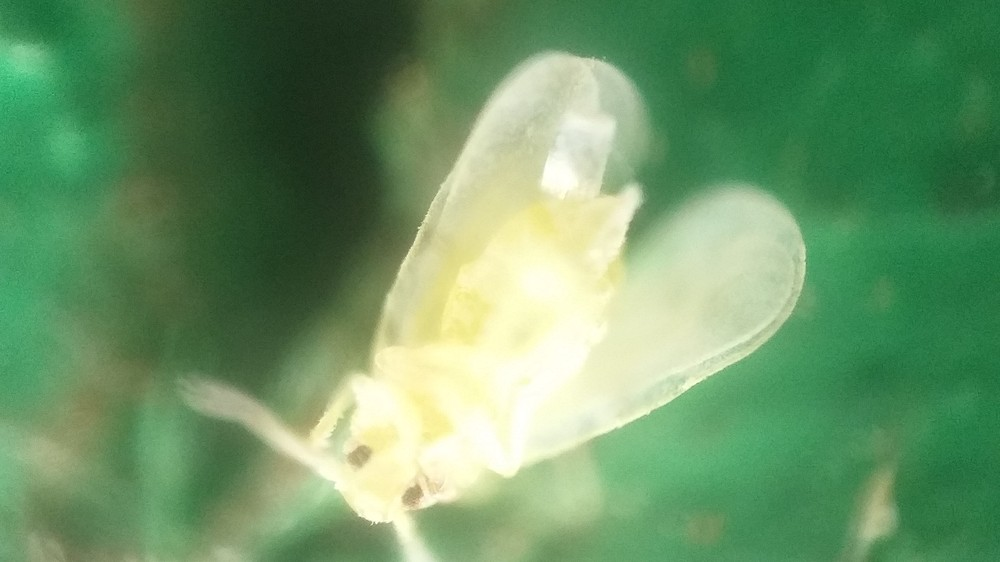Mosca Blanca: (172, 46, 816, 562)
